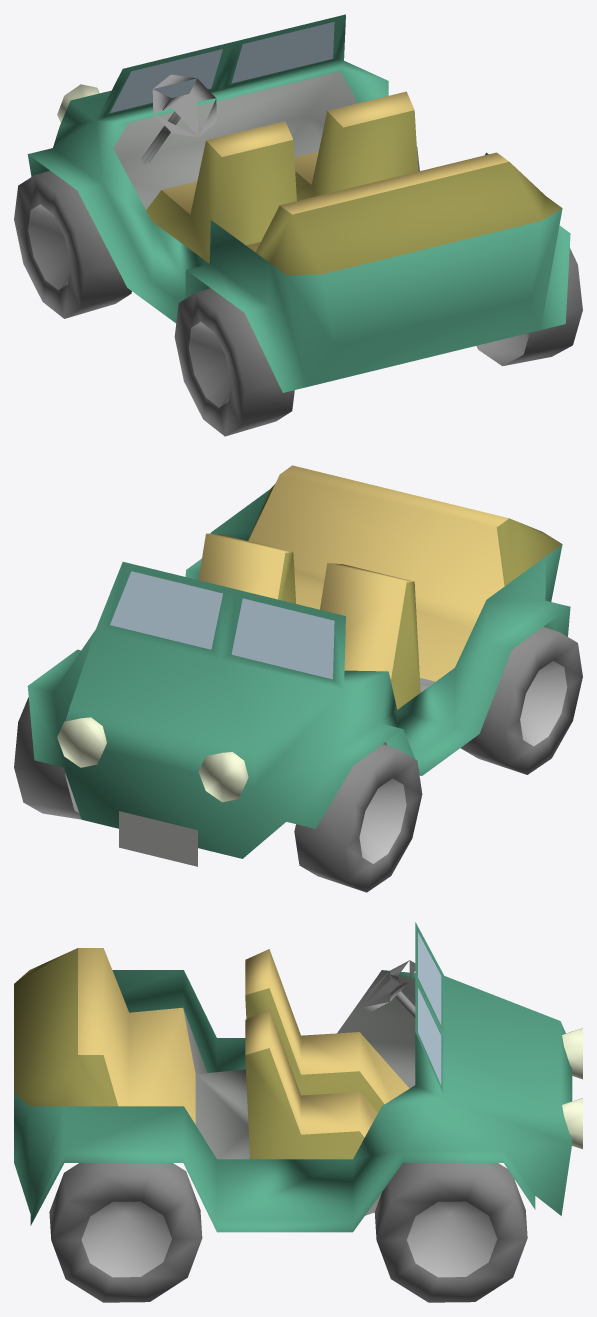
File: jeep_refaite_3.dae
3 renders of one model, top to bottom at view 1: azimuth 30°, elevation 25°; view 2: azimuth 150°, elevation 25°; view 3: azimuth 270°, elevation 25°, orthographic.
Visible parts, largest first — view 1: Jeep_002; view 2: Jeep_002; view 3: Jeep_002.
Part boxes in pixels (x1,y1,x2,y2): Jeep_002: (14, 14, 582, 436); Jeep_002: (14, 465, 582, 892); Jeep_002: (14, 922, 582, 1302).
Bounding box in the file's own units: 3.45 × 4.89 × 2.33.
